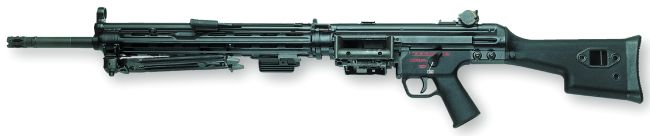rifle: (6, 8, 649, 136)
